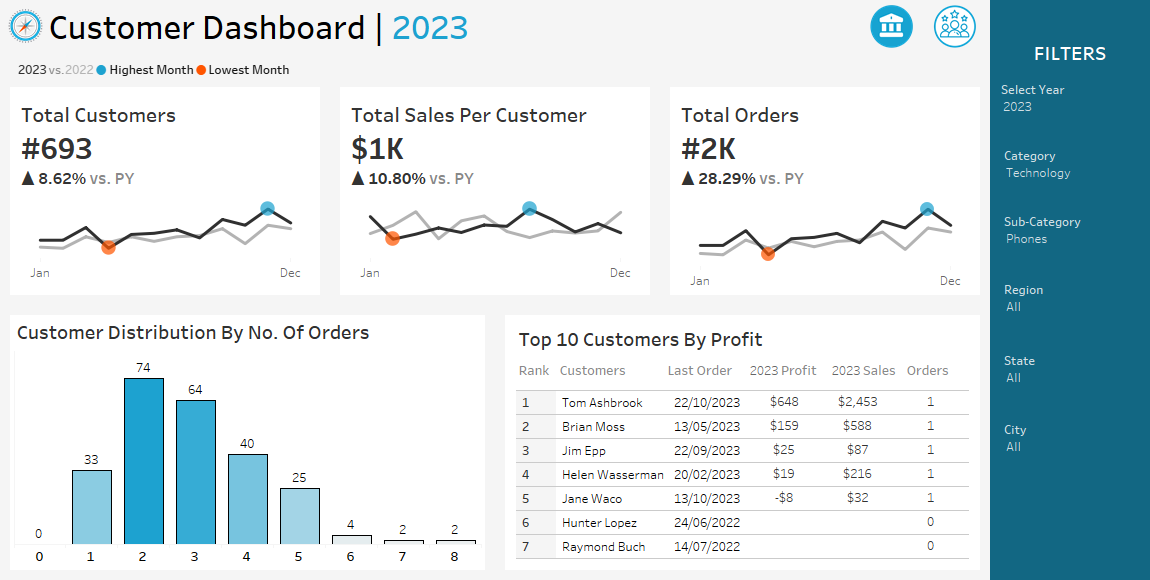

The page's visual inventory and layout, read from the dashboard file:
{"tool":"tableau","page":{"name":"Customer Dashboard","canvas":[1150,580],"ordinal":0},"visuals":[{"type":"image","param":"Image/Icon - Logo.png","box":[0,0,46,52]},{"type":"text","box":[46,0,600,52]},{"type":"dashboard-object","box":[862,0,58,52]},{"type":"dashboard-object","box":[920,0,70,52]},{"type":"blank","box":[990,0,160,35]},{"type":"text","box":[990,35,160,34]},{"type":"worksheet","title":"Legend KPI","mark":"Automatic","box":[0,52,990,35]},{"type":"parameter","param":"[Parameters].[Parameter 1]","box":[990,69,160,75]},{"type":"worksheet","title":"KPI Customers","mark":"Automatic","rows":["Min/Max Profit (copy)_623748578418151441"],"cols":["Order Date"],"box":[0,87,330,218]},{"type":"worksheet","title":"KPI Sales Per Customer","mark":"Automatic","rows":["Min/Max Quantity (copy)_623748578422366226"],"cols":["Order Date"],"box":[330,87,330,218]},{"type":"worksheet","title":"KPI Orders","mark":"Automatic","rows":["Min/Max Customer (copy)_623748578429009945"],"cols":["Order Date"],"box":[660,87,330,218]},{"type":"filter","title":"KPI Customers","param":"[federated.1sb4pbu0m9st3e12z6h270u2c01k].[none:Category:nk]","box":[990,144,160,67]},{"type":"filter","title":"KPI Customers","param":"[federated.1sb4pbu0m9st3e12z6h270u2c01k].[none:Sub-Category:nk]","box":[990,211,160,68]},{"type":"filter","title":"KPI Customers","param":"[federated.1sb4pbu0m9st3e12z6h270u2c01k].[none:Region:nk]","box":[990,279,160,71]},{"type":"text","box":[10,315,475,32]},{"type":"text","box":[512,322,461,32]},{"type":"worksheet","title":"Customer Distribution","mark":"Automatic","rows":["Calculation_623748578410745862"],"cols":["Calculation_623748578432438300"],"box":[10,347,475,223]},{"type":"filter","title":"KPI Customers","param":"[federated.1sb4pbu0m9st3e12z6h270u2c01k].[none:State:nk]","box":[990,350,160,69]},{"type":"text","box":[512,354,41,32]},{"type":"text","box":[553,354,108,32]},{"type":"text","box":[661,354,82,32]},{"type":"text","box":[743,354,82,32]},{"type":"text","box":[825,354,75,32]},{"type":"text","box":[900,354,73,32]},{"type":"worksheet","title":"Top 10 Customers","mark":"Automatic","rows":["Calculation_623748578435641375","Customer Name","Order Date"],"box":[512,386,461,177]},{"type":"filter","title":"KPI Customers","param":"[federated.1sb4pbu0m9st3e12z6h270u2c01k].[none:City:nk]","box":[990,419,160,73]}]}

Visuals, with their boxes in screenshot pixels (x1, y1, x2, y2), scaled from the page's 1150x580 canvas onto the 1150x580 screenshot:
image: [0, 0, 46, 52]
text: [46, 0, 646, 52]
dashboard-object: [862, 0, 920, 52]
dashboard-object: [920, 0, 990, 52]
blank: [990, 0, 1149, 35]
text: [990, 35, 1149, 69]
"Legend KPI" worksheet: [0, 52, 990, 87]
parameter: [990, 69, 1149, 144]
"KPI Customers" worksheet: [0, 87, 330, 305]
"KPI Sales Per Customer" worksheet: [330, 87, 660, 305]
"KPI Orders" worksheet: [660, 87, 990, 305]
"KPI Customers" filter: [990, 144, 1149, 211]
"KPI Customers" filter: [990, 211, 1149, 279]
"KPI Customers" filter: [990, 279, 1149, 350]
text: [10, 315, 485, 347]
text: [512, 322, 973, 354]
"Customer Distribution" worksheet: [10, 347, 485, 570]
"KPI Customers" filter: [990, 350, 1149, 419]
text: [512, 354, 553, 386]
text: [553, 354, 661, 386]
text: [661, 354, 743, 386]
text: [743, 354, 825, 386]
text: [825, 354, 900, 386]
text: [900, 354, 973, 386]
"Top 10 Customers" worksheet: [512, 386, 973, 563]
"KPI Customers" filter: [990, 419, 1149, 492]
